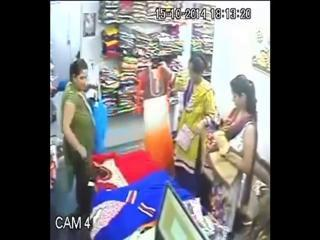Normal: (200, 74, 258, 231), (170, 55, 219, 201), (61, 59, 98, 220)
